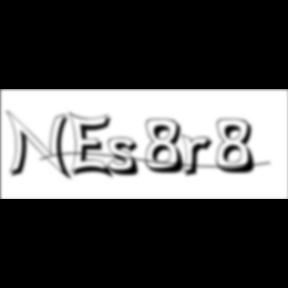8: (216, 117, 262, 176), (146, 117, 190, 176)
E: (68, 110, 118, 182)
N: (6, 109, 76, 183)
r: (181, 134, 219, 180)
s: (108, 137, 146, 179)
